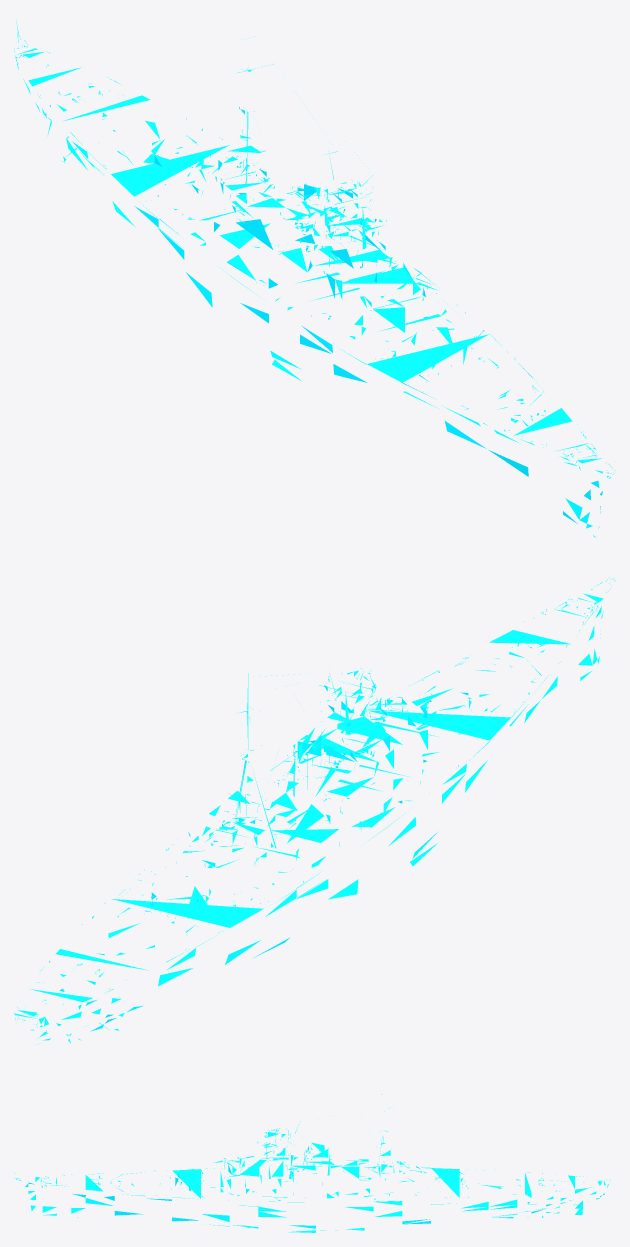
Rendered from Black_Brandenburg.glb.
The picture shows the model from 3 angles, top to bottom: view 1: azimuth 30°, elevation 25°; view 2: azimuth 150°, elevation 25°; view 3: azimuth 270°, elevation 25°; orthographic projection. The views are drawn at different scales.
Bounding box in the file's own units: 2.32 × 3.78 × 16.3.
